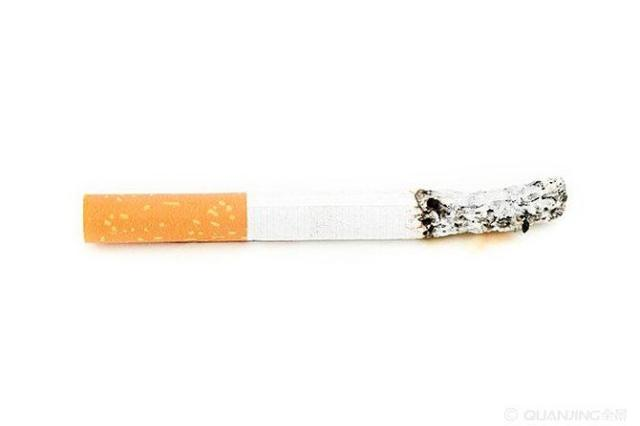Cigarette: (82, 178, 568, 244)
